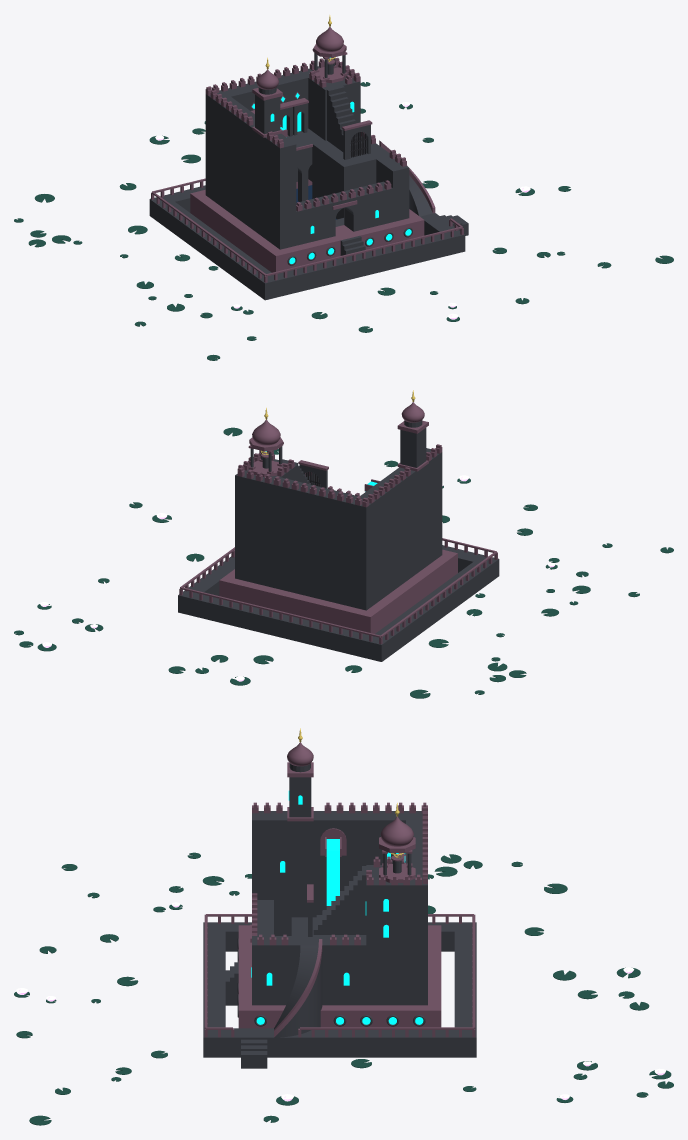
The model's file is monument.glb.
The picture shows the model from 3 angles, top to bottom: view 1: azimuth 30°, elevation 25°; view 2: azimuth 150°, elevation 25°; view 3: azimuth 270°, elevation 25°; orthographic projection. The views are drawn at different scales.
Visible parts, largest first — view 1: Arch_Palace_Monolith, Arch_Perimeter_Walkway, Arch_Plinth_Retaining_Walls, Flora_LilyPads, Arch_Battlements, Arch_Perimeter_Balustrade, Arch_Minaret_Shaft, Arch_Gazebo_Platform_Entablature, Arch_Curved_Ramp; view 2: Arch_Palace_Monolith, Arch_Perimeter_Walkway, Arch_Plinth_Retaining_Walls, Flora_LilyPads, Arch_Perimeter_Balustrade, Arch_Battlements, Arch_Minaret_Shaft, Arch_Gazebo_Platform_Entablature, Arch_Gazebo_Dome; view 3: Arch_Palace_Monolith, Arch_Perimeter_Walkway, Arch_Plinth_Retaining_Walls, Flora_LilyPads, Arch_Battlements, Arch_Perimeter_Balustrade, Arch_Curved_Ramp, Arch_Minaret_Shaft, FX_Waterfall, Arch_Gazebo_Platform_Entablature, Arch_Gazebo_Dome, Arch_Curved_Ramp_Parapet.
Part boxes in pixels (x1,y1,x2,y2): Arch_Palace_Monolith: (205, 66, 409, 249); Arch_Perimeter_Walkway: (149, 185, 468, 300); Arch_Plinth_Retaining_Walls: (190, 179, 424, 272); Flora_LilyPads: (14, 82, 673, 360); Arch_Battlements: (205, 57, 406, 211); Arch_Perimeter_Balustrade: (151, 178, 463, 282); Arch_Minaret_Shaft: (255, 87, 280, 134); Arch_Gazebo_Platform_Entablature: (312, 44, 347, 83); Arch_Curved_Ramp: (409, 175, 432, 216); Arch_Palace_Monolith: (235, 448, 442, 610); Arch_Perimeter_Walkway: (178, 545, 499, 661); Arch_Plinth_Retaining_Walls: (219, 549, 457, 633); Flora_LilyPads: (14, 427, 673, 698); Arch_Perimeter_Balustrade: (179, 538, 497, 644); Arch_Battlements: (237, 444, 442, 507); Arch_Minaret_Shaft: (400, 420, 426, 467); Arch_Gazebo_Platform_Entablature: (248, 437, 283, 477); Arch_Gazebo_Dome: (252, 419, 280, 445); Arch_Palace_Monolith: (252, 811, 427, 1005); Arch_Perimeter_Walkway: (203, 922, 476, 1068); Arch_Plinth_Retaining_Walls: (238, 925, 441, 1028); Flora_LilyPads: (14, 852, 673, 1125); Arch_Battlements: (252, 802, 427, 945); Arch_Perimeter_Balustrade: (204, 914, 475, 1037); Arch_Curved_Ramp: (274, 945, 322, 1057); Arch_Minaret_Shaft: (289, 763, 311, 817); FX_Waterfall: (326, 839, 339, 905); Arch_Gazebo_Platform_Entablature: (379, 837, 415, 882); Arch_Gazebo_Dome: (380, 816, 413, 846); Arch_Curved_Ramp_Parapet: (274, 939, 322, 1037).
Size of what is drawn, in the model's own units: 29.26 by 12.02 by 29.97.
